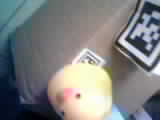duck: (45, 53, 132, 112)
